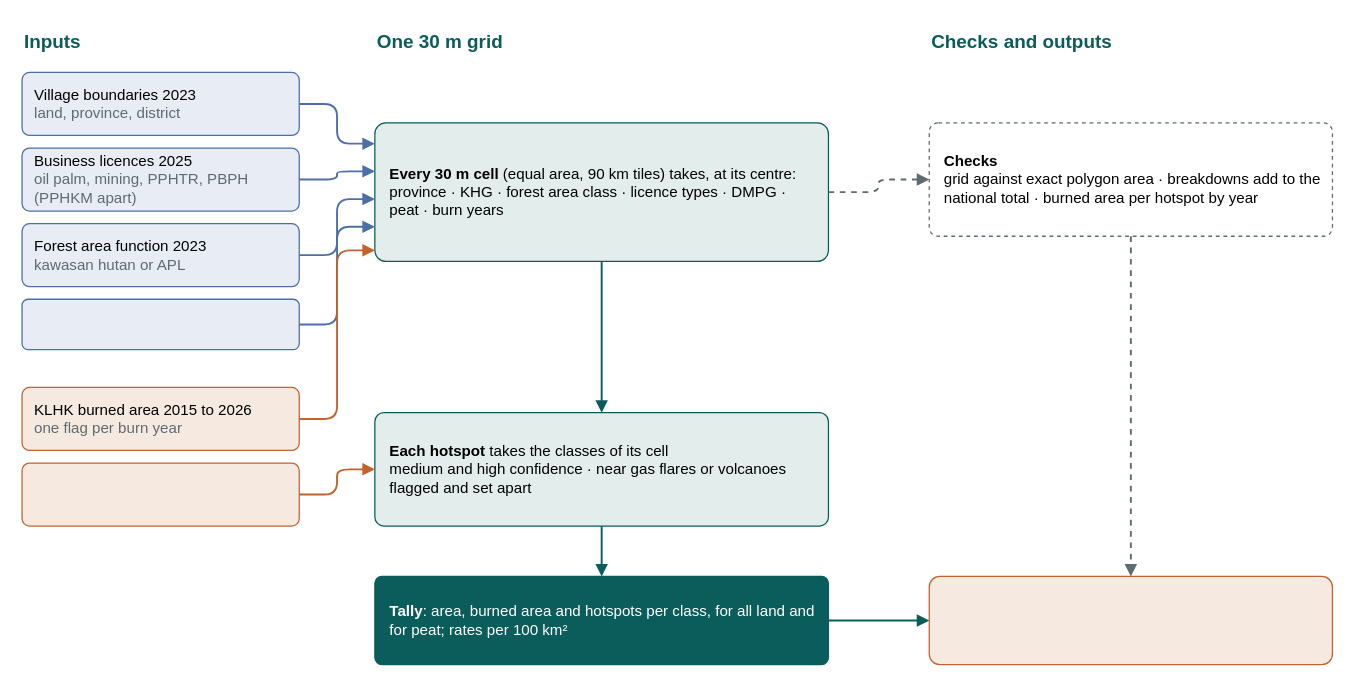
Image size: 1355x687. Some labels were removed from this diagram. Here are the shapes that lost their labels. From the top down, the centre of each, then its label:
point (160, 324): DMPG villages · KHG · peat extent
point (160, 494): Hotspots VIIRS 2012 to 2026 (375 m) · MODIS 2026 (1 km)
point (1130, 620): Tables · dashboard · report · slides · GIS layers
